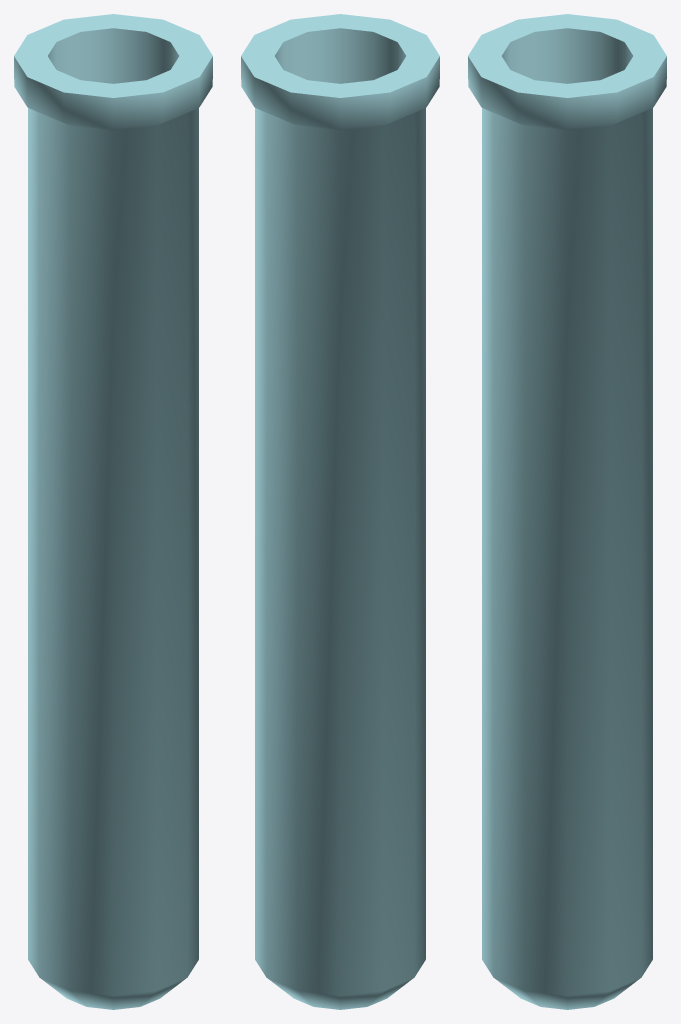
Rendered from PotionBottleFilled8.fbx.
3 renders of one model, left to right at view 1: azimuth 30°, elevation 25°; view 2: azimuth 150°, elevation 25°; view 3: azimuth 270°, elevation 25°, orthographic.
Parts seen in each view (by area): view 1: PotionBottleFilled8; view 2: PotionBottleFilled8; view 3: PotionBottleFilled8.
Boxes of the visible parts, x1,y1,x2,y2 form: PotionBottleFilled8: [14, 14, 212, 1009]; PotionBottleFilled8: [241, 14, 439, 1009]; PotionBottleFilled8: [468, 14, 666, 1009].
Size of the model in its own units: 3.49 by 18 by 3.49.
